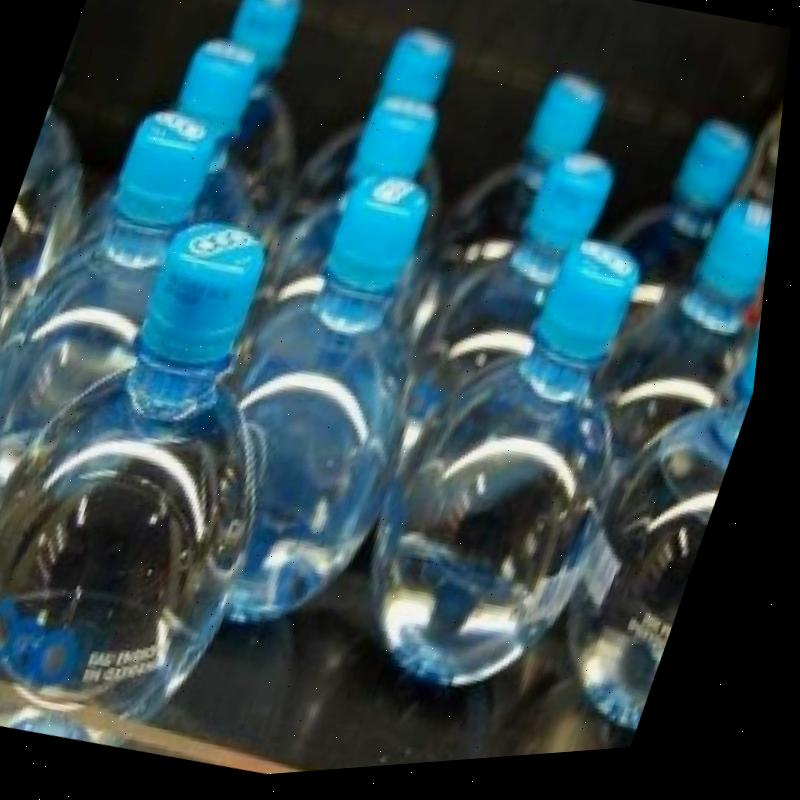botella: (0, 187, 365, 776), (340, 221, 699, 723), (165, 152, 502, 653), (0, 90, 230, 562), (549, 285, 773, 750), (414, 141, 627, 441), (580, 183, 781, 499), (167, 0, 360, 233), (267, 85, 451, 322), (453, 64, 621, 265), (140, 32, 300, 235), (596, 112, 763, 295), (0, 95, 127, 308), (368, 31, 465, 130), (0, 242, 36, 481)
